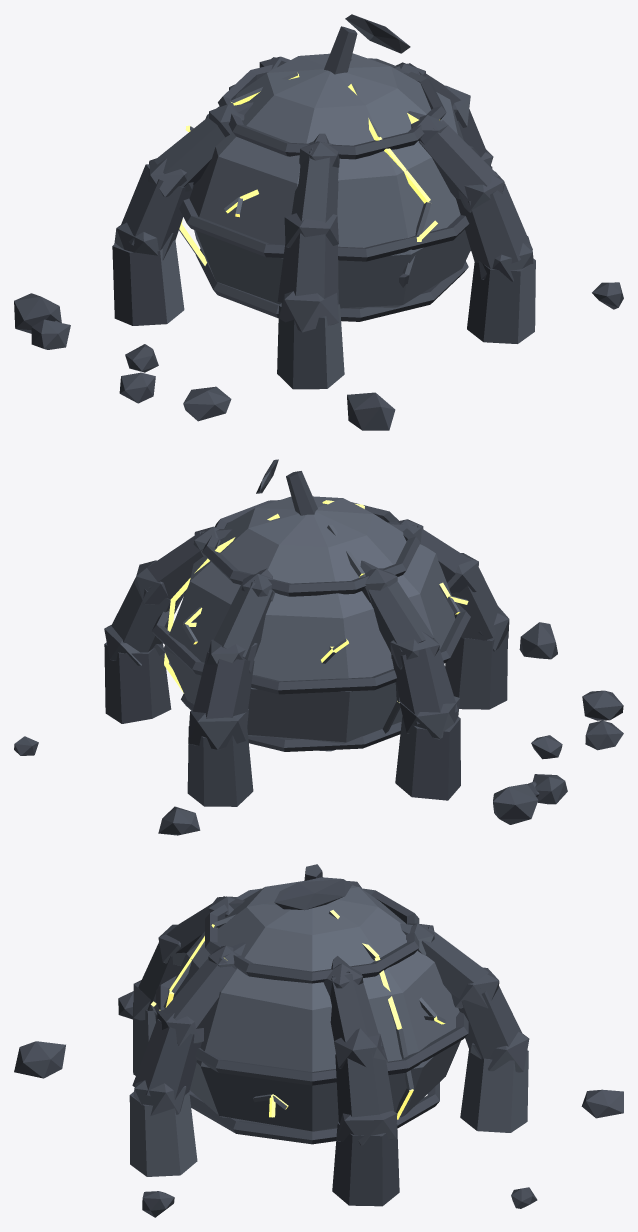
Rendered from fruto-colosso.glb.
The picture shows the model from 3 angles, top to bottom: view 1: azimuth 30°, elevation 25°; view 2: azimuth 150°, elevation 25°; view 3: azimuth 270°, elevation 25°; orthographic projection. The views are drawn at different scales.
Visible parts, largest first — view 1: Fruit_Body; view 2: Fruit_Body; view 3: Fruit_Body.
Part boxes in pixels (x1=…): Fruit_Body: x1=14, y1=14, x2=623, y2=430; Fruit_Body: x1=14, y1=459, x2=623, y2=835; Fruit_Body: x1=14, y1=864, x2=623, y2=1217.
Bounding box in the file's own units: 2.13 × 1.14 × 2.35.
